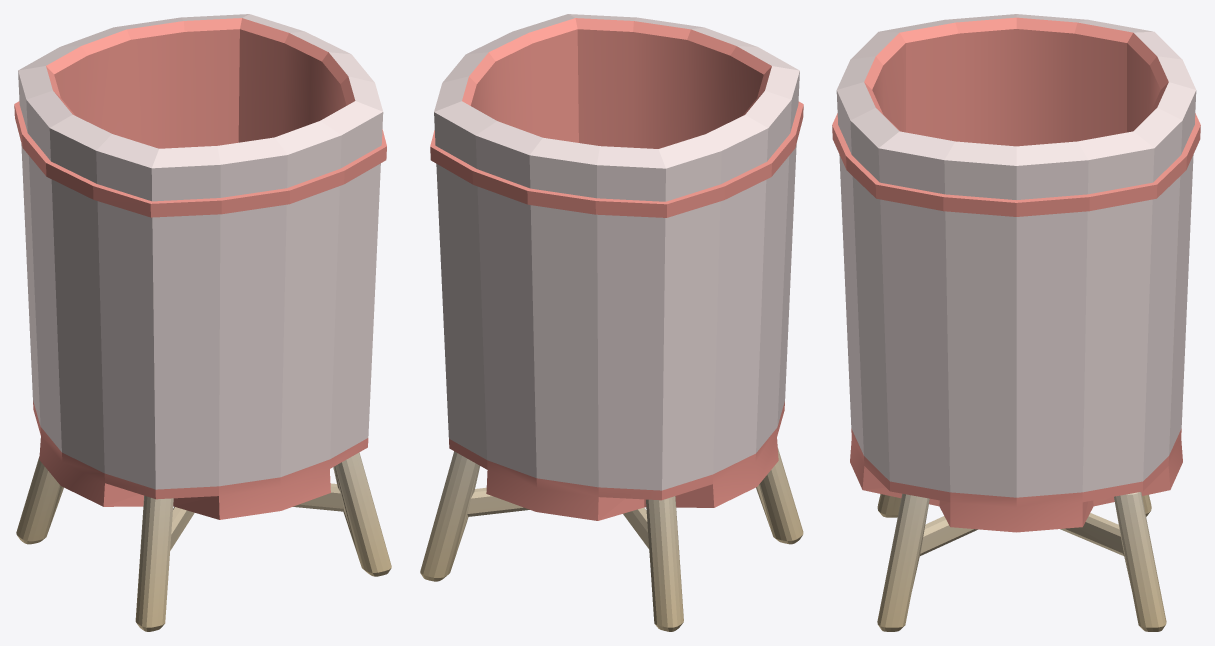
Rendered from PlantPot_12.fbx.
3 renders of one model, left to right at view 1: azimuth 30°, elevation 25°; view 2: azimuth 150°, elevation 25°; view 3: azimuth 270°, elevation 25°, orthographic. The views are drawn at different scales.
Parts seen in each view (by area): view 1: PlantPot_12; view 2: PlantPot_12; view 3: PlantPot_12.
Part boxes in pixels (x1=…): PlantPot_12: x1=14, y1=14, x2=391, y2=631; PlantPot_12: x1=420, y1=14, x2=803, y2=631; PlantPot_12: x1=832, y1=14, x2=1200, y2=631.
Size of the model in its own units: 37.14 by 54.18 by 37.14.
